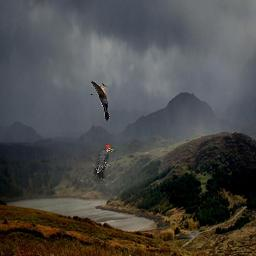Swallow: (91, 81, 110, 121)
Woodpecker: (93, 144, 116, 184)
